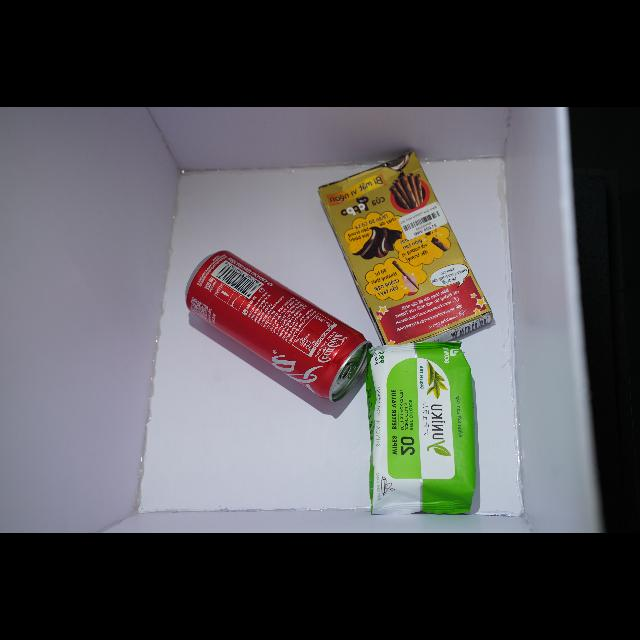banh_toppo_socola: (318, 151, 492, 345)
coca_cola: (186, 251, 371, 402)
khan_giay: (366, 342, 476, 515)
